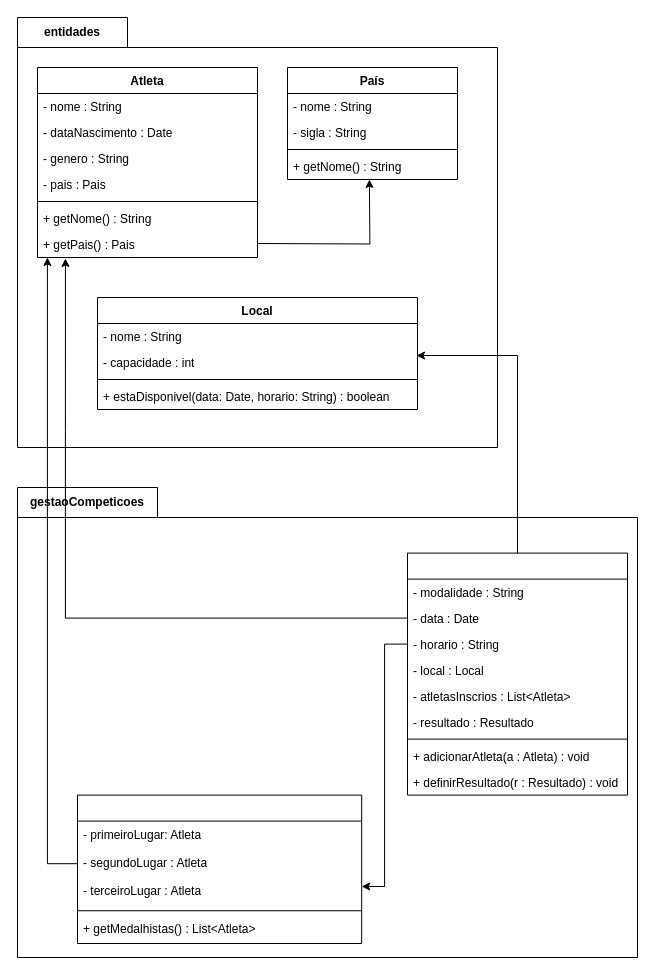
This 655x975 diagram has some shape labels left out. Here are the shapes that lost their labels. From the top down, the box of each, then its label:
(406, 552, 628, 795): Competicao
(76, 794, 362, 944): Resultado
